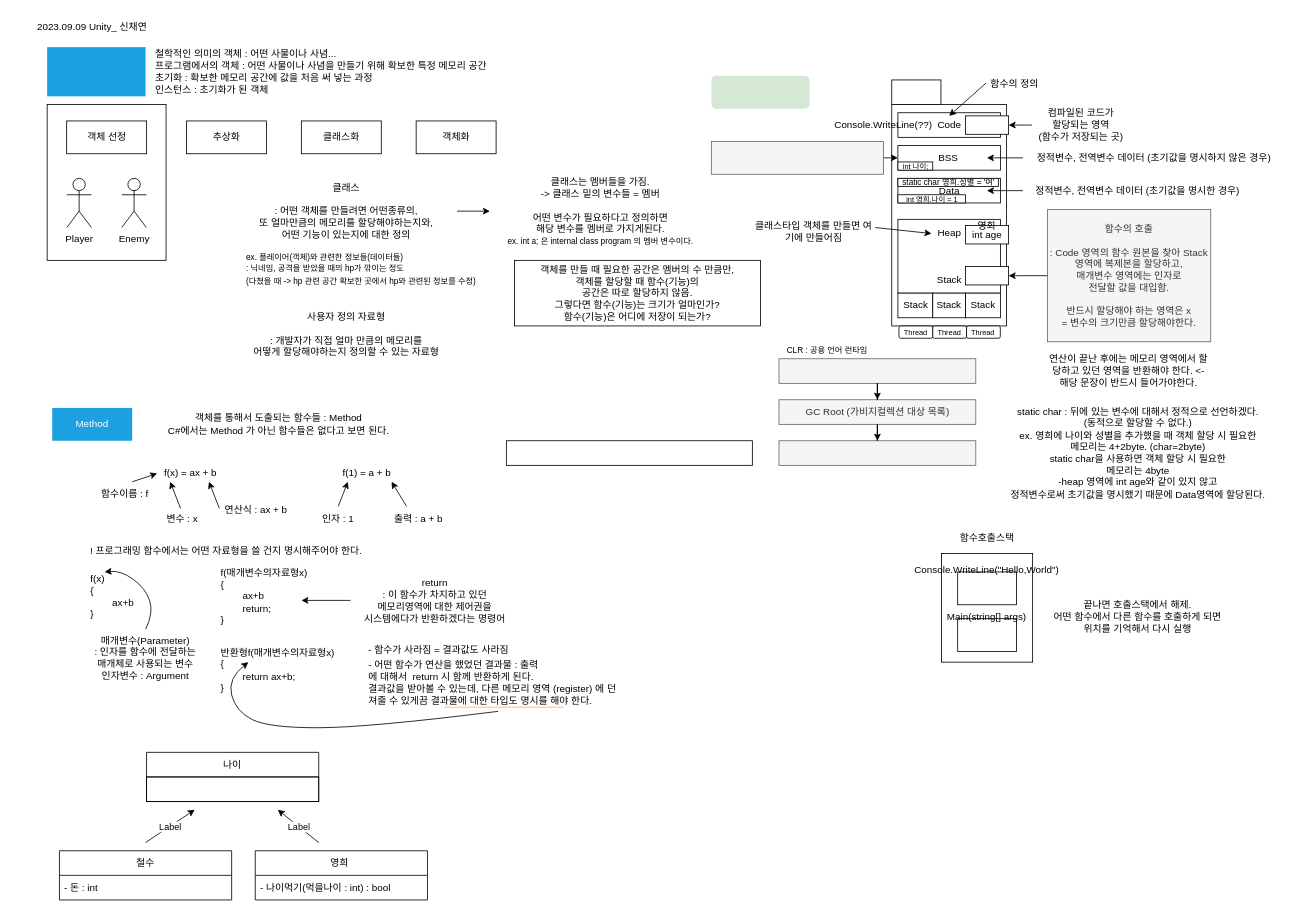
Some shapes in this 1299 by 914 pixel diagram are drawn without their labels. The centre of each missing label's shape, as x and y in pixels:
- 나이 : int: [232,789]
CLR 이 Managed Heap 영역을 매번 순회: [877,370]
f(1): [987,275]
f(x): [987,124]
Garbage Collector 가 해당 목록에서 사용되지 않는 메모리를 해제시도: [877,452]
Process: [760,91]
RAM: [916,92]
객체지향형 프로그래밍: [96,71]
논리형 : t/f 로 나눠지는 참과 거짓이 갈리는 구문: [629,452]
처음 프로그램 인스턴스가 할당될 때 모든 비트가 0으로 Reset: [797,157]
